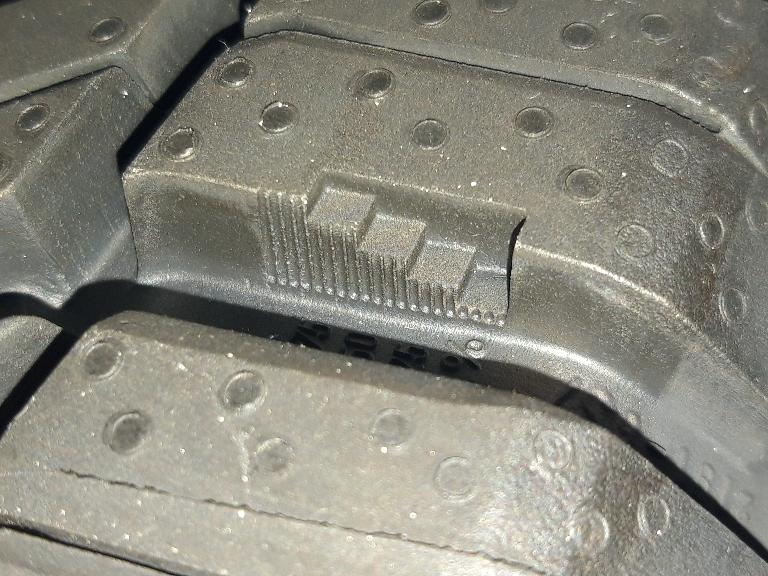temoin:100: (250, 160, 536, 336)
